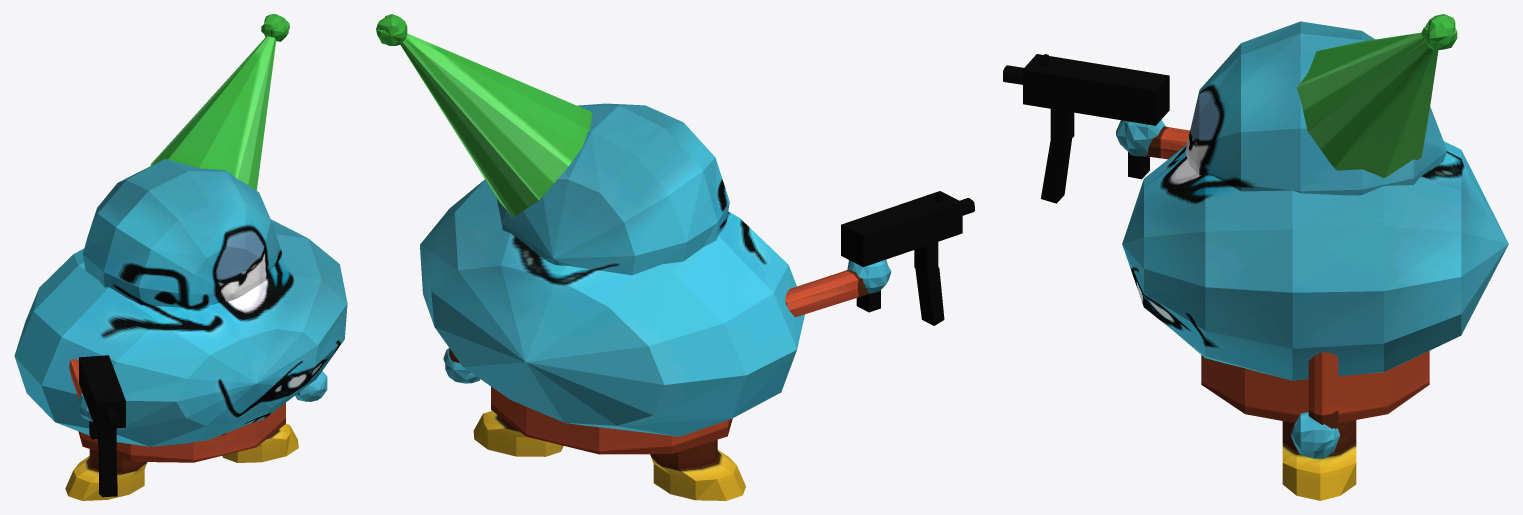
The model's file is Boss2.glb.
The picture shows the model from 3 angles, left to right: view 1: azimuth 30°, elevation 25°; view 2: azimuth 150°, elevation 25°; view 3: azimuth 270°, elevation 25°; orthographic projection. The views are drawn at different scales.
Visible parts, largest first — view 1: Boss2; view 2: Boss2; view 3: Boss2.
Part boxes in pixels (x1=…): Boss2: x1=14, y1=14, x2=347, y2=500; Boss2: x1=376, y1=14, x2=974, y2=500; Boss2: x1=1003, y1=14, x2=1508, y2=500.
Bounding box in the file's own units: 432 × 456 × 418.
Materials: 1 (1 with a texture image).
